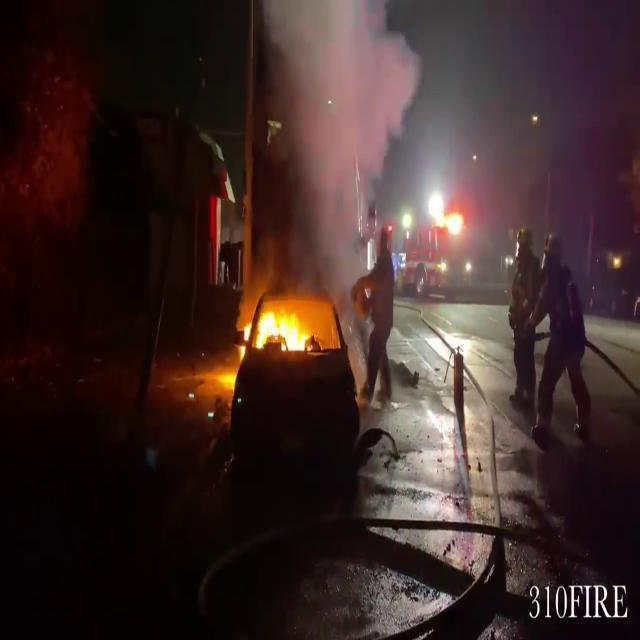Fire: (246, 291, 318, 363)
Smoke: (250, 0, 418, 290)
